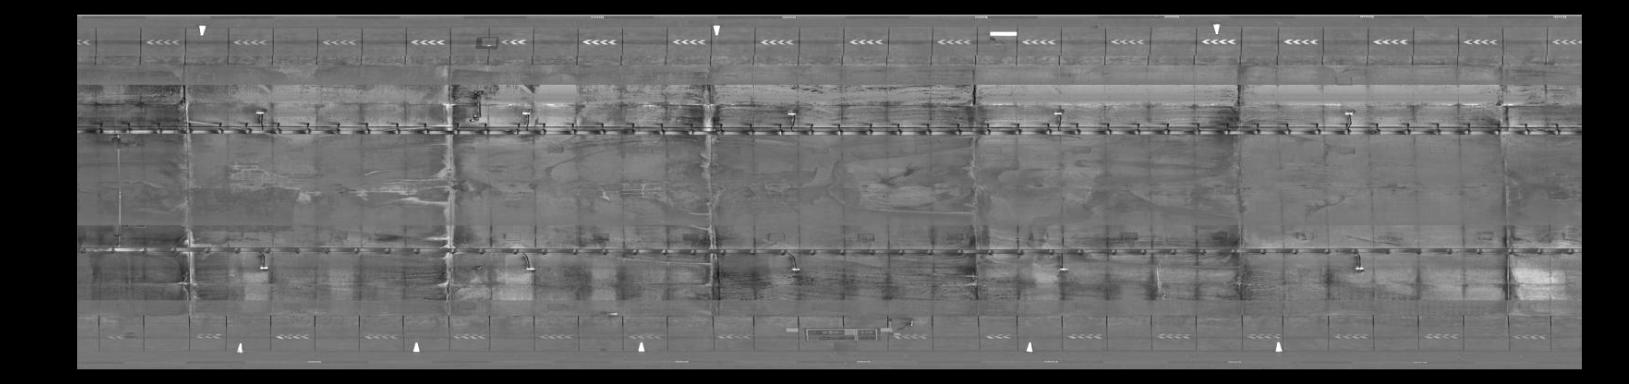light: (253, 260, 278, 276), (515, 108, 538, 119), (1350, 262, 1368, 275), (519, 264, 540, 275), (785, 264, 805, 275), (252, 107, 270, 119), (1338, 109, 1358, 119), (1053, 264, 1071, 275), (1047, 108, 1066, 118), (784, 108, 801, 119)
